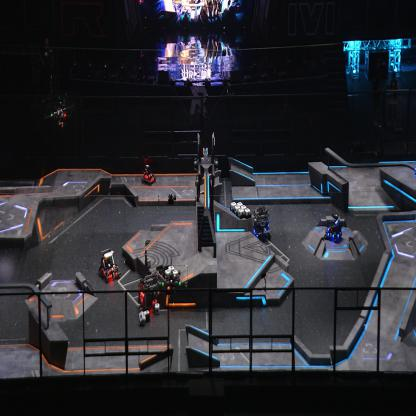car: (137, 270, 163, 312), (98, 248, 121, 283), (250, 205, 271, 242), (324, 211, 343, 244), (141, 164, 156, 186)
